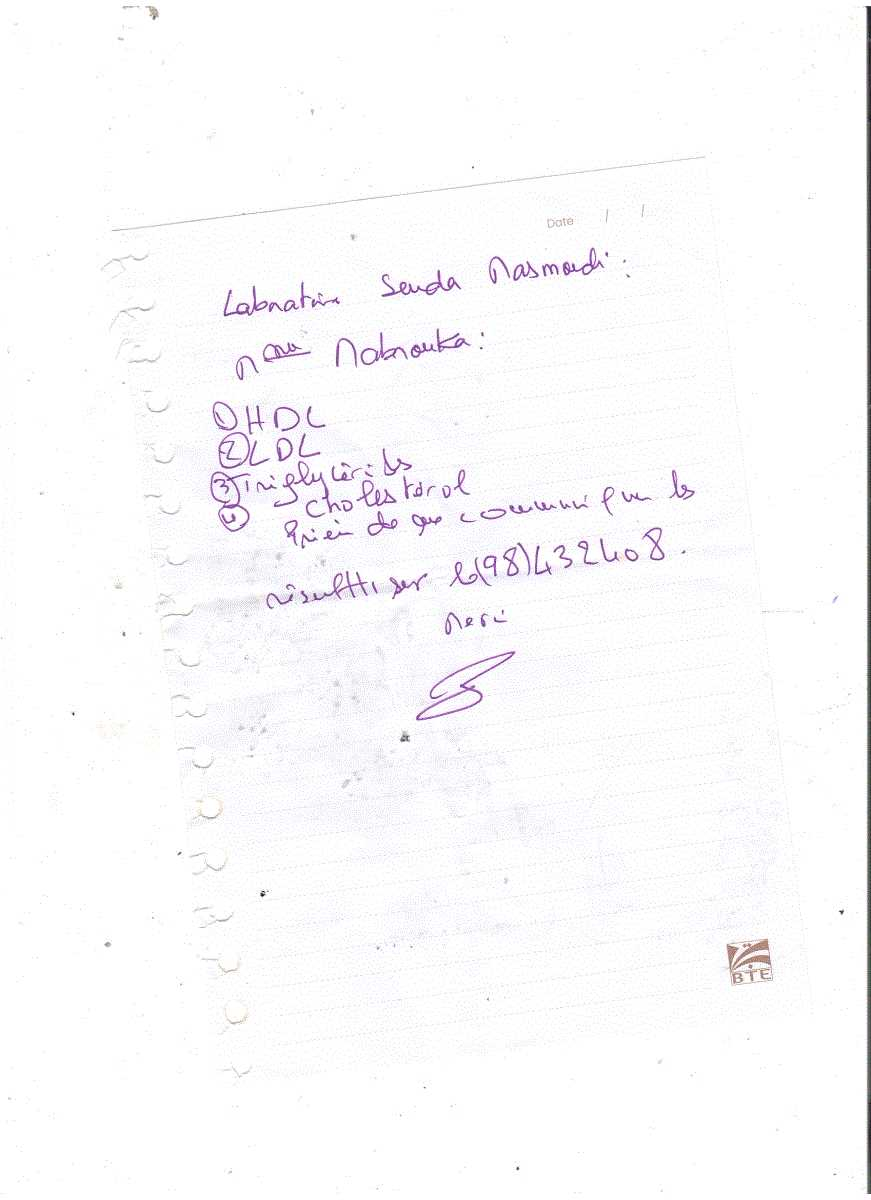zone_analyses: (196, 402, 725, 536)
zone_prescripteur: (214, 347, 520, 398)
